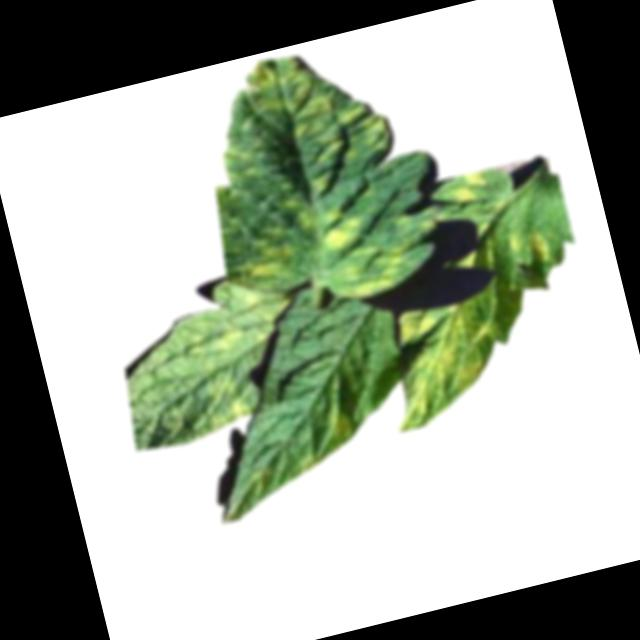Leaf_Mold: (242, 37, 402, 204), (374, 293, 514, 434), (163, 276, 300, 368), (328, 240, 415, 304), (187, 373, 253, 436), (234, 233, 303, 293), (314, 203, 366, 253), (315, 396, 357, 443), (445, 168, 490, 208), (523, 225, 551, 264), (289, 453, 320, 476)
